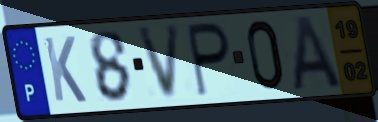0: (244, 17, 288, 94)
8: (87, 29, 135, 104)
A: (290, 13, 345, 94)
K: (41, 34, 89, 105)
P: (185, 20, 233, 100)
V: (135, 22, 183, 103)
